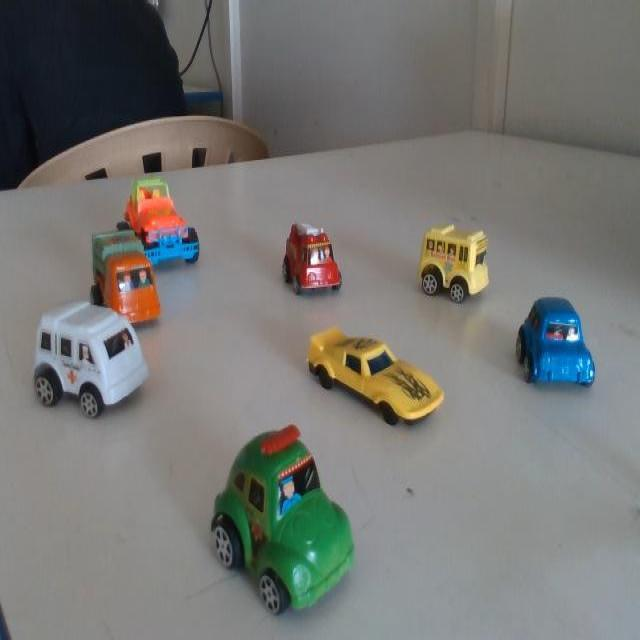car: (206, 427, 367, 620), (33, 280, 162, 440), (313, 318, 438, 434), (410, 222, 492, 316), (130, 170, 206, 268), (523, 296, 598, 394), (272, 210, 342, 310), (94, 221, 157, 331)
